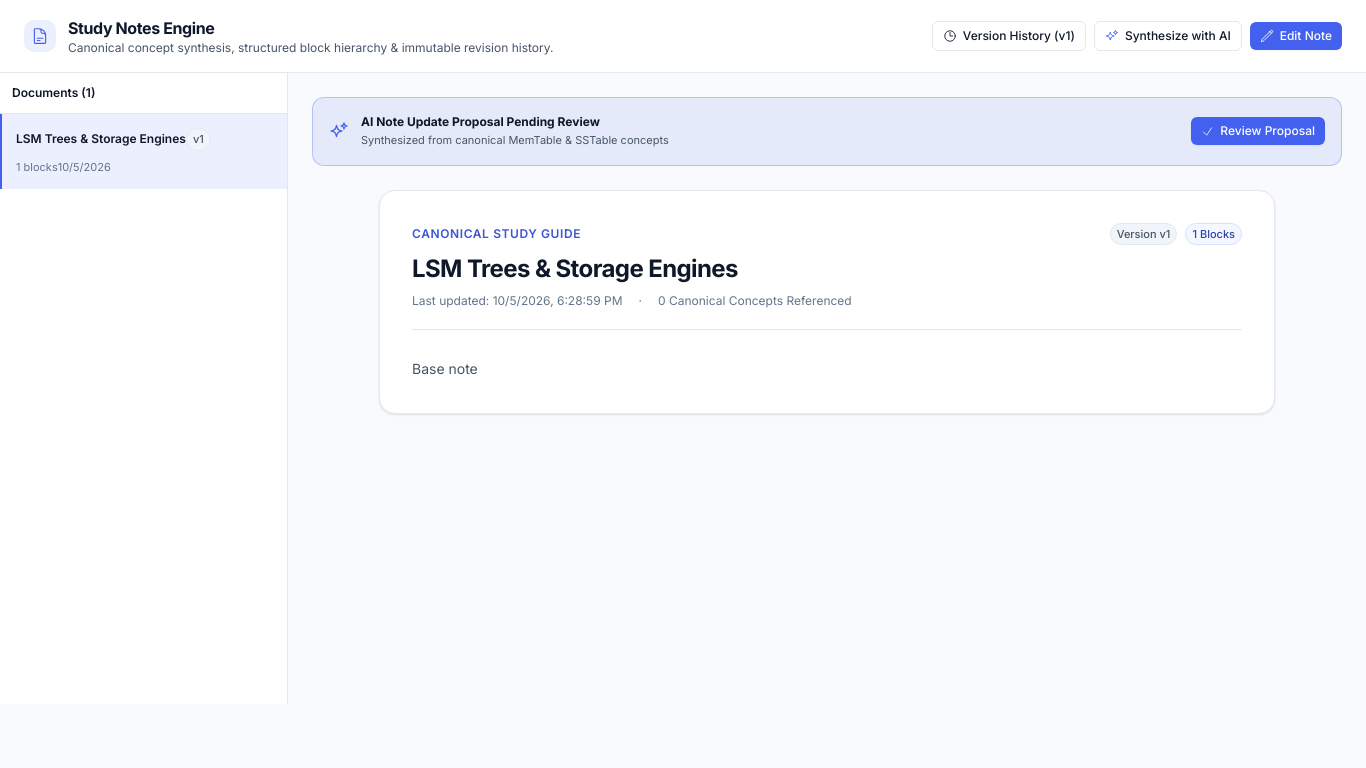
Structured Notes Engine Frontend Workflows (Phase 07) › displays pending AI proposal banner and opens ProposalReviewModal
The image size is (1366, 768).
Check: the text "AI Note Update Proposal Pending Review" is shown, box [361, 114, 600, 129]
Check: the text "Review Proposal" is shown, box [1220, 123, 1315, 139]
Click the button "Review Proposal".
click(1258, 131)  # box [1191, 117, 1325, 145]
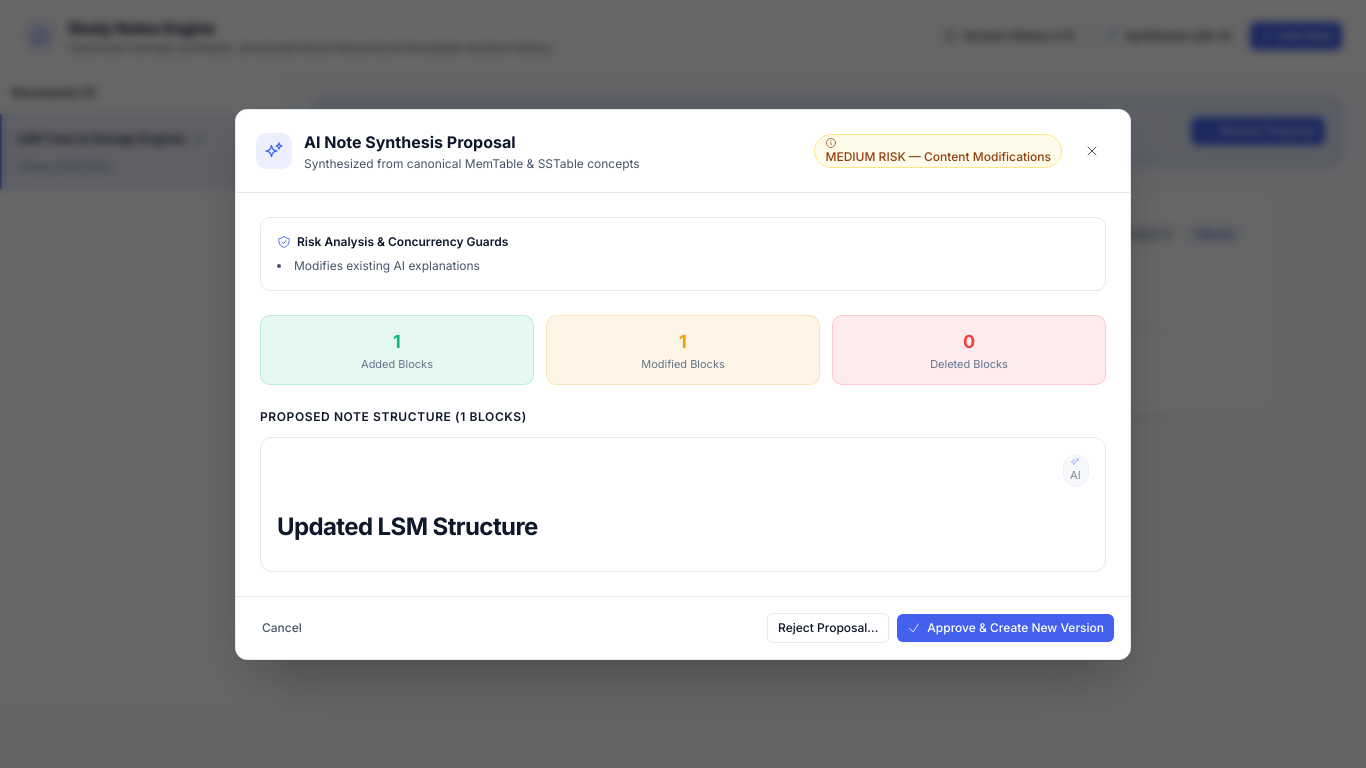
Check: the heading "AI Note Synthesis Proposal" is shown, box [304, 132, 516, 152]
Check: the text "MEDIUM RISK — Content Modifications" is shown, box [826, 136, 1051, 164]
Check: the text "Approve & Create New Version" is shown, box [927, 620, 1104, 636]
